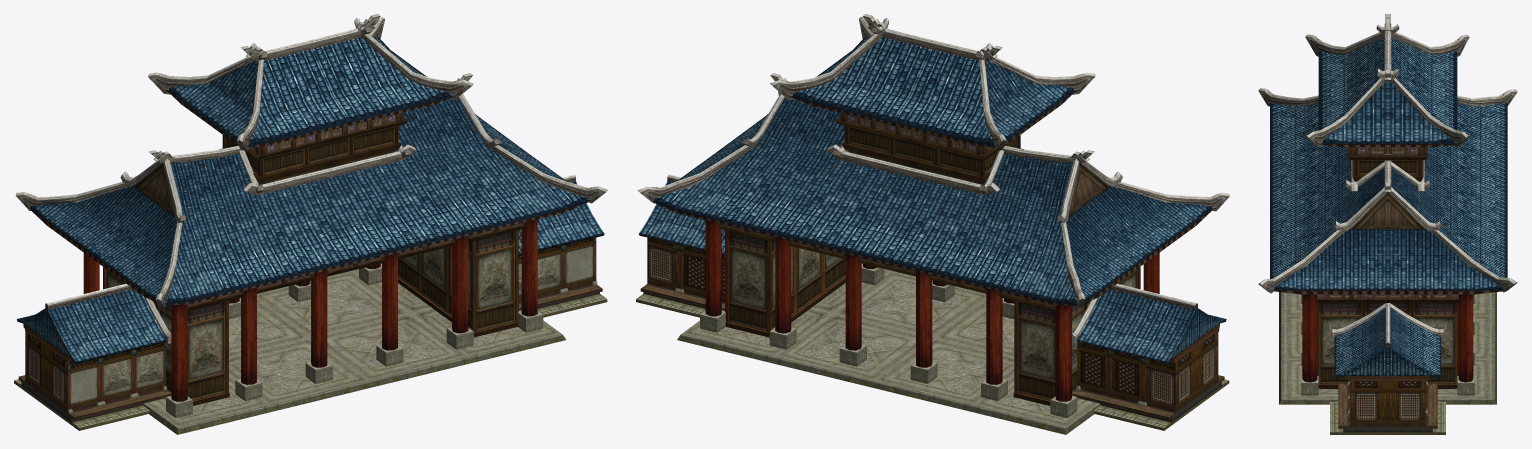
Rendered from secret_door_02.fbx.
The picture shows the model from 3 angles, left to right: view 1: azimuth 30°, elevation 25°; view 2: azimuth 150°, elevation 25°; view 3: azimuth 270°, elevation 25°; orthographic projection. The views are drawn at different scales.
Visible parts, largest first — view 1: secret_door_02; view 2: secret_door_02; view 3: secret_door_02.
Boxes of the visible parts, left/top/right/bottom form: secret_door_02: left=14, top=14, right=607, bottom=434; secret_door_02: left=636, top=14, right=1229, bottom=434; secret_door_02: left=1258, top=14, right=1517, bottom=434.
Size of the model in its own units: 60 by 33.76 by 28.7.
